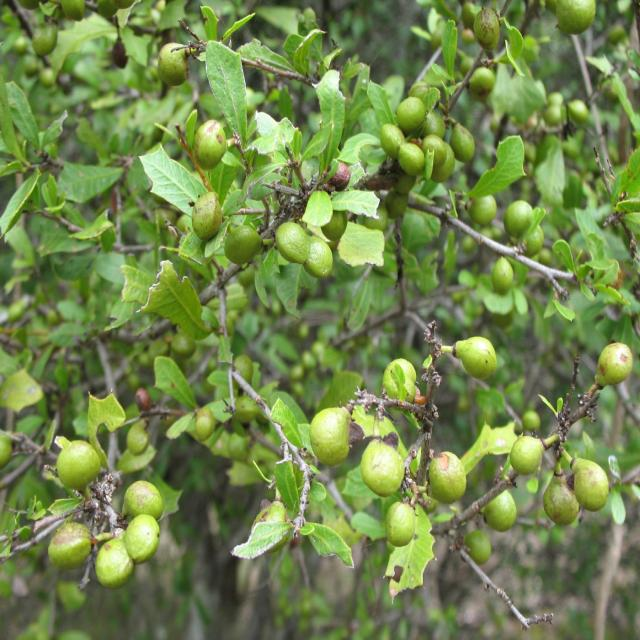Gugal: (28, 30, 640, 601), (239, 257, 633, 579), (376, 3, 626, 426), (0, 262, 237, 603), (123, 21, 310, 323)
